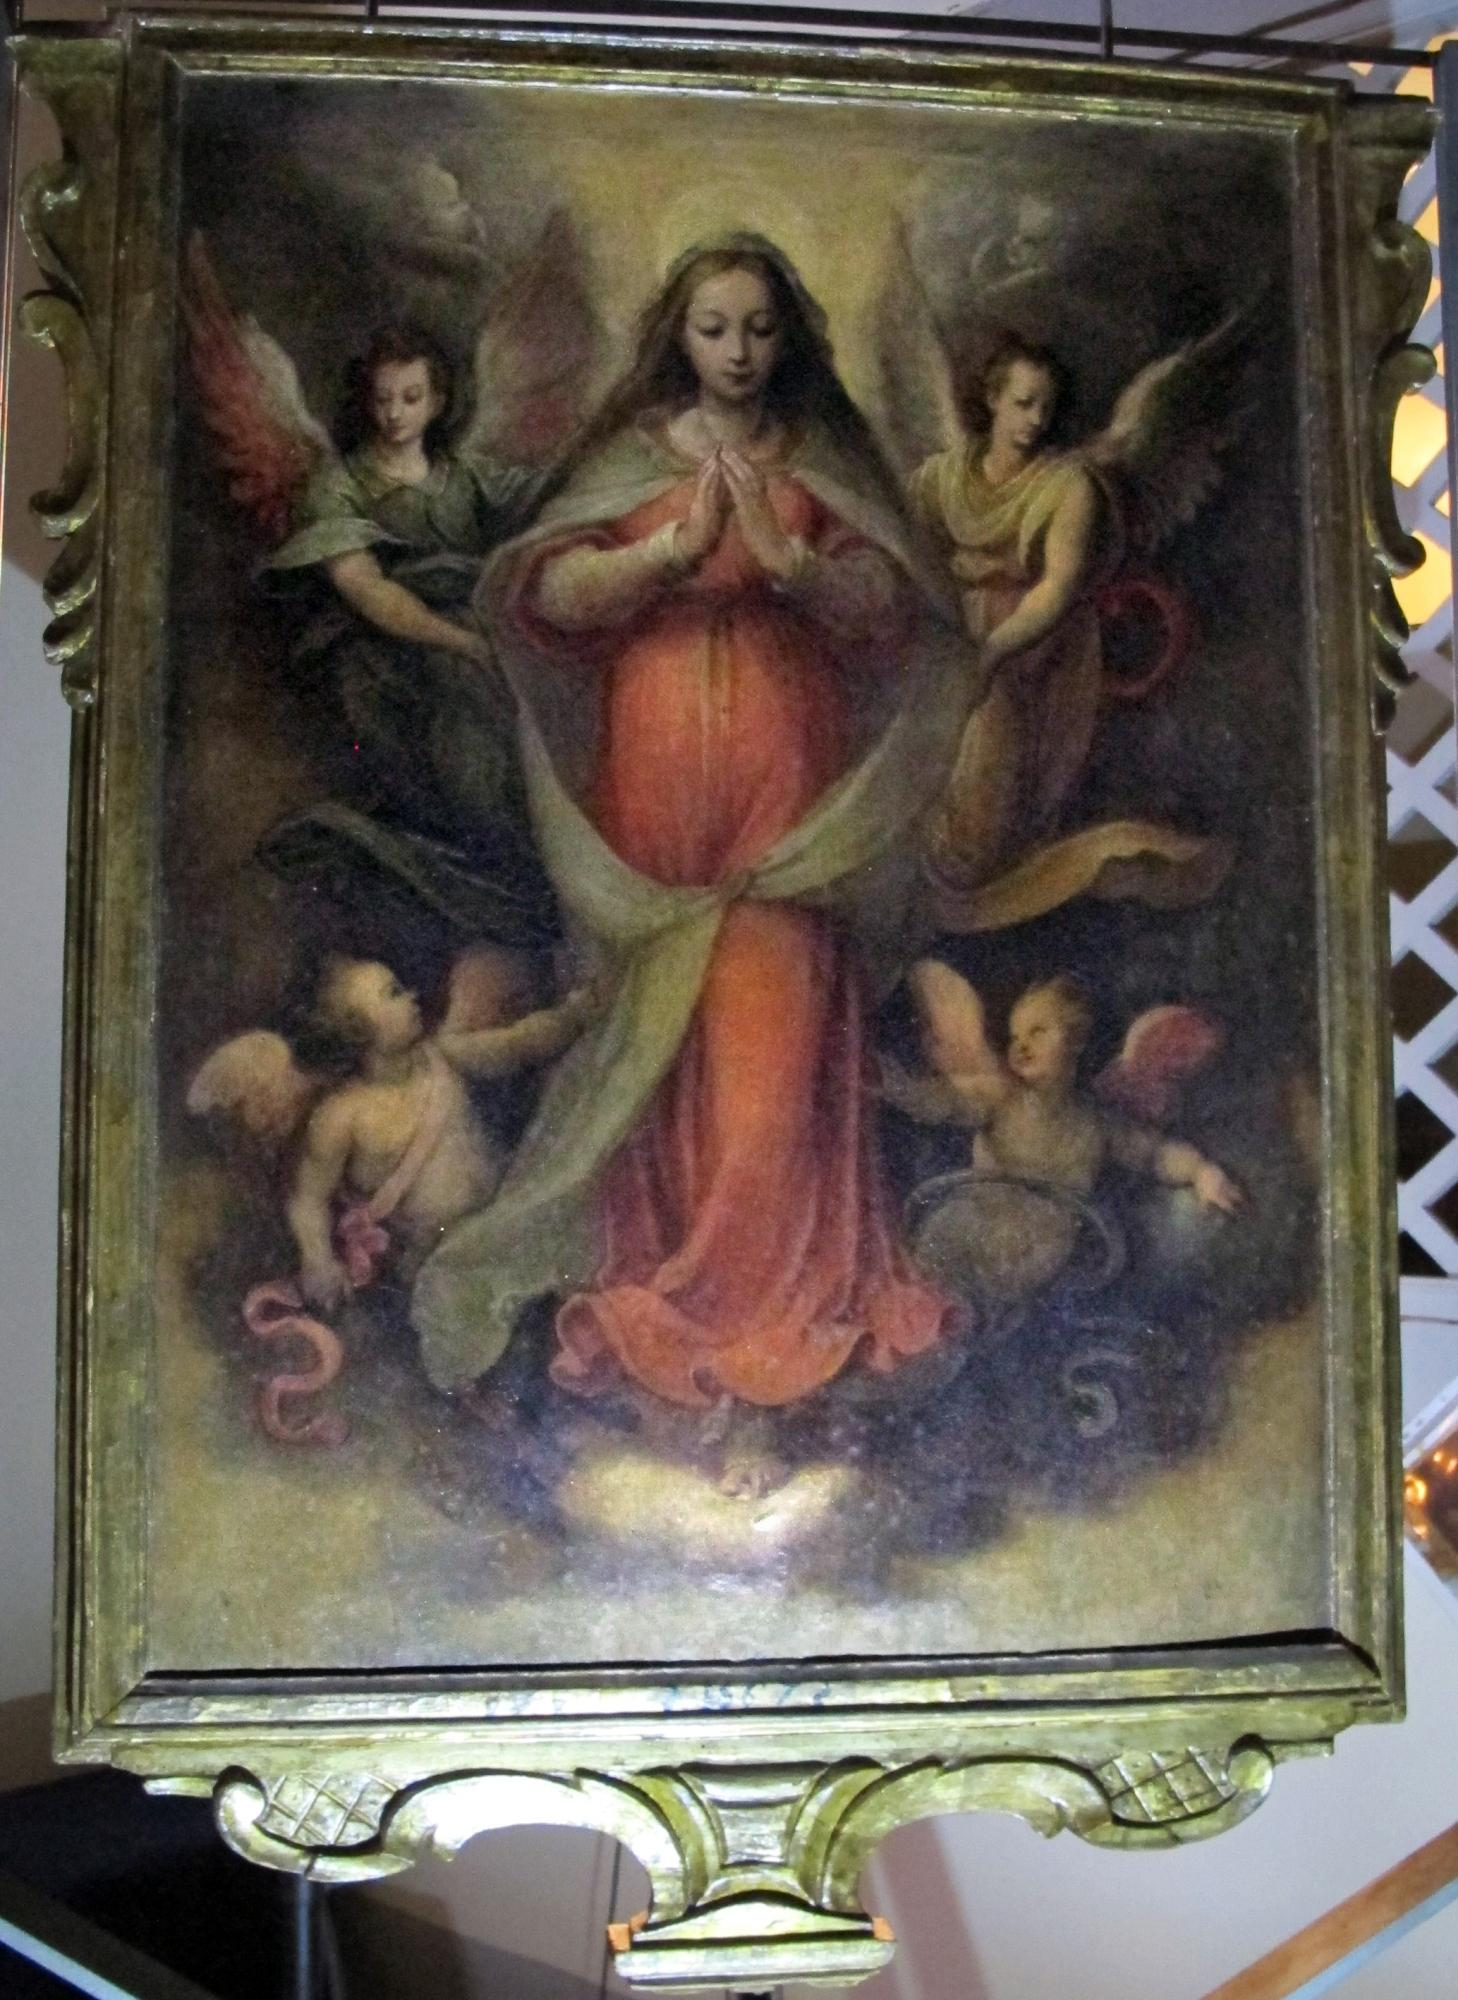angel: (180, 196, 590, 866), (857, 205, 1292, 787), (862, 946, 1245, 1366), (197, 936, 599, 1292)
prayer: (522, 234, 935, 1377)
